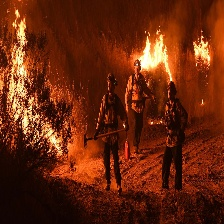fire: (7, 7, 63, 152), (139, 32, 174, 83), (192, 37, 214, 65)
